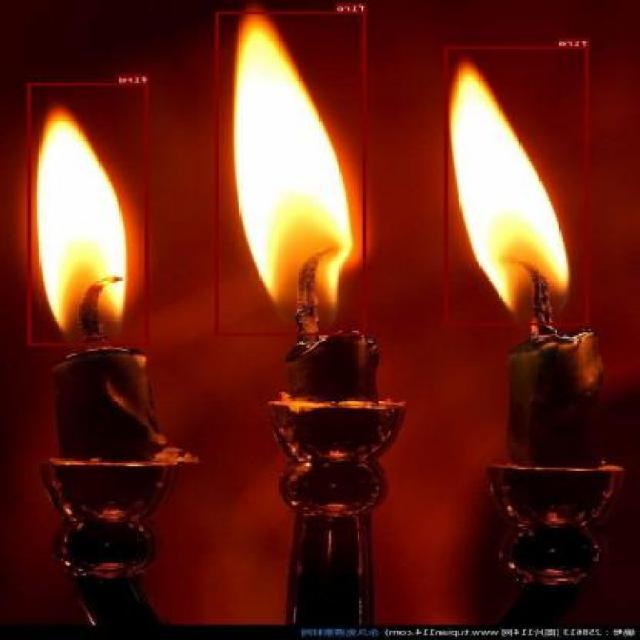fire: (216, 12, 367, 334), (444, 46, 590, 325), (28, 82, 150, 346)
